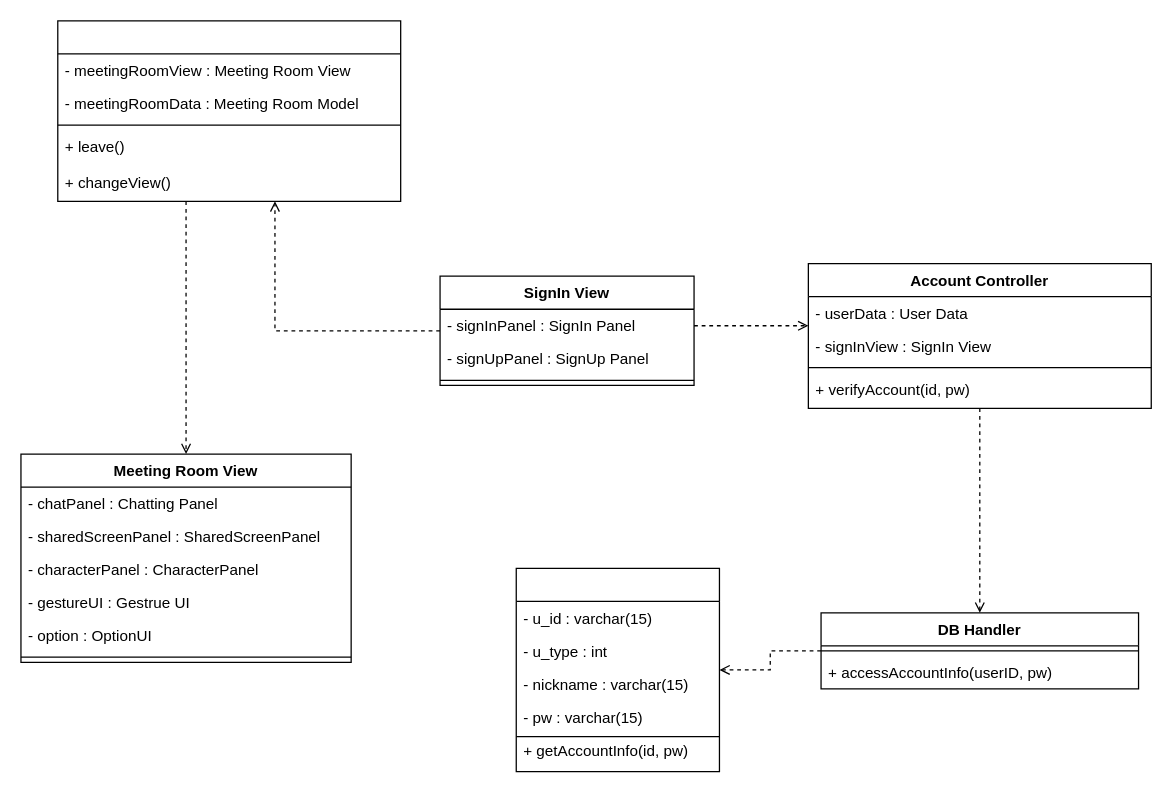
Some shapes in this 1172 by 792 pixel diagram are drawn without their labels. Each missing label, with the box of its shape:
Instant Meeting Room Controller: (57, 20, 401, 201)
User Data: (515, 567, 719, 772)
